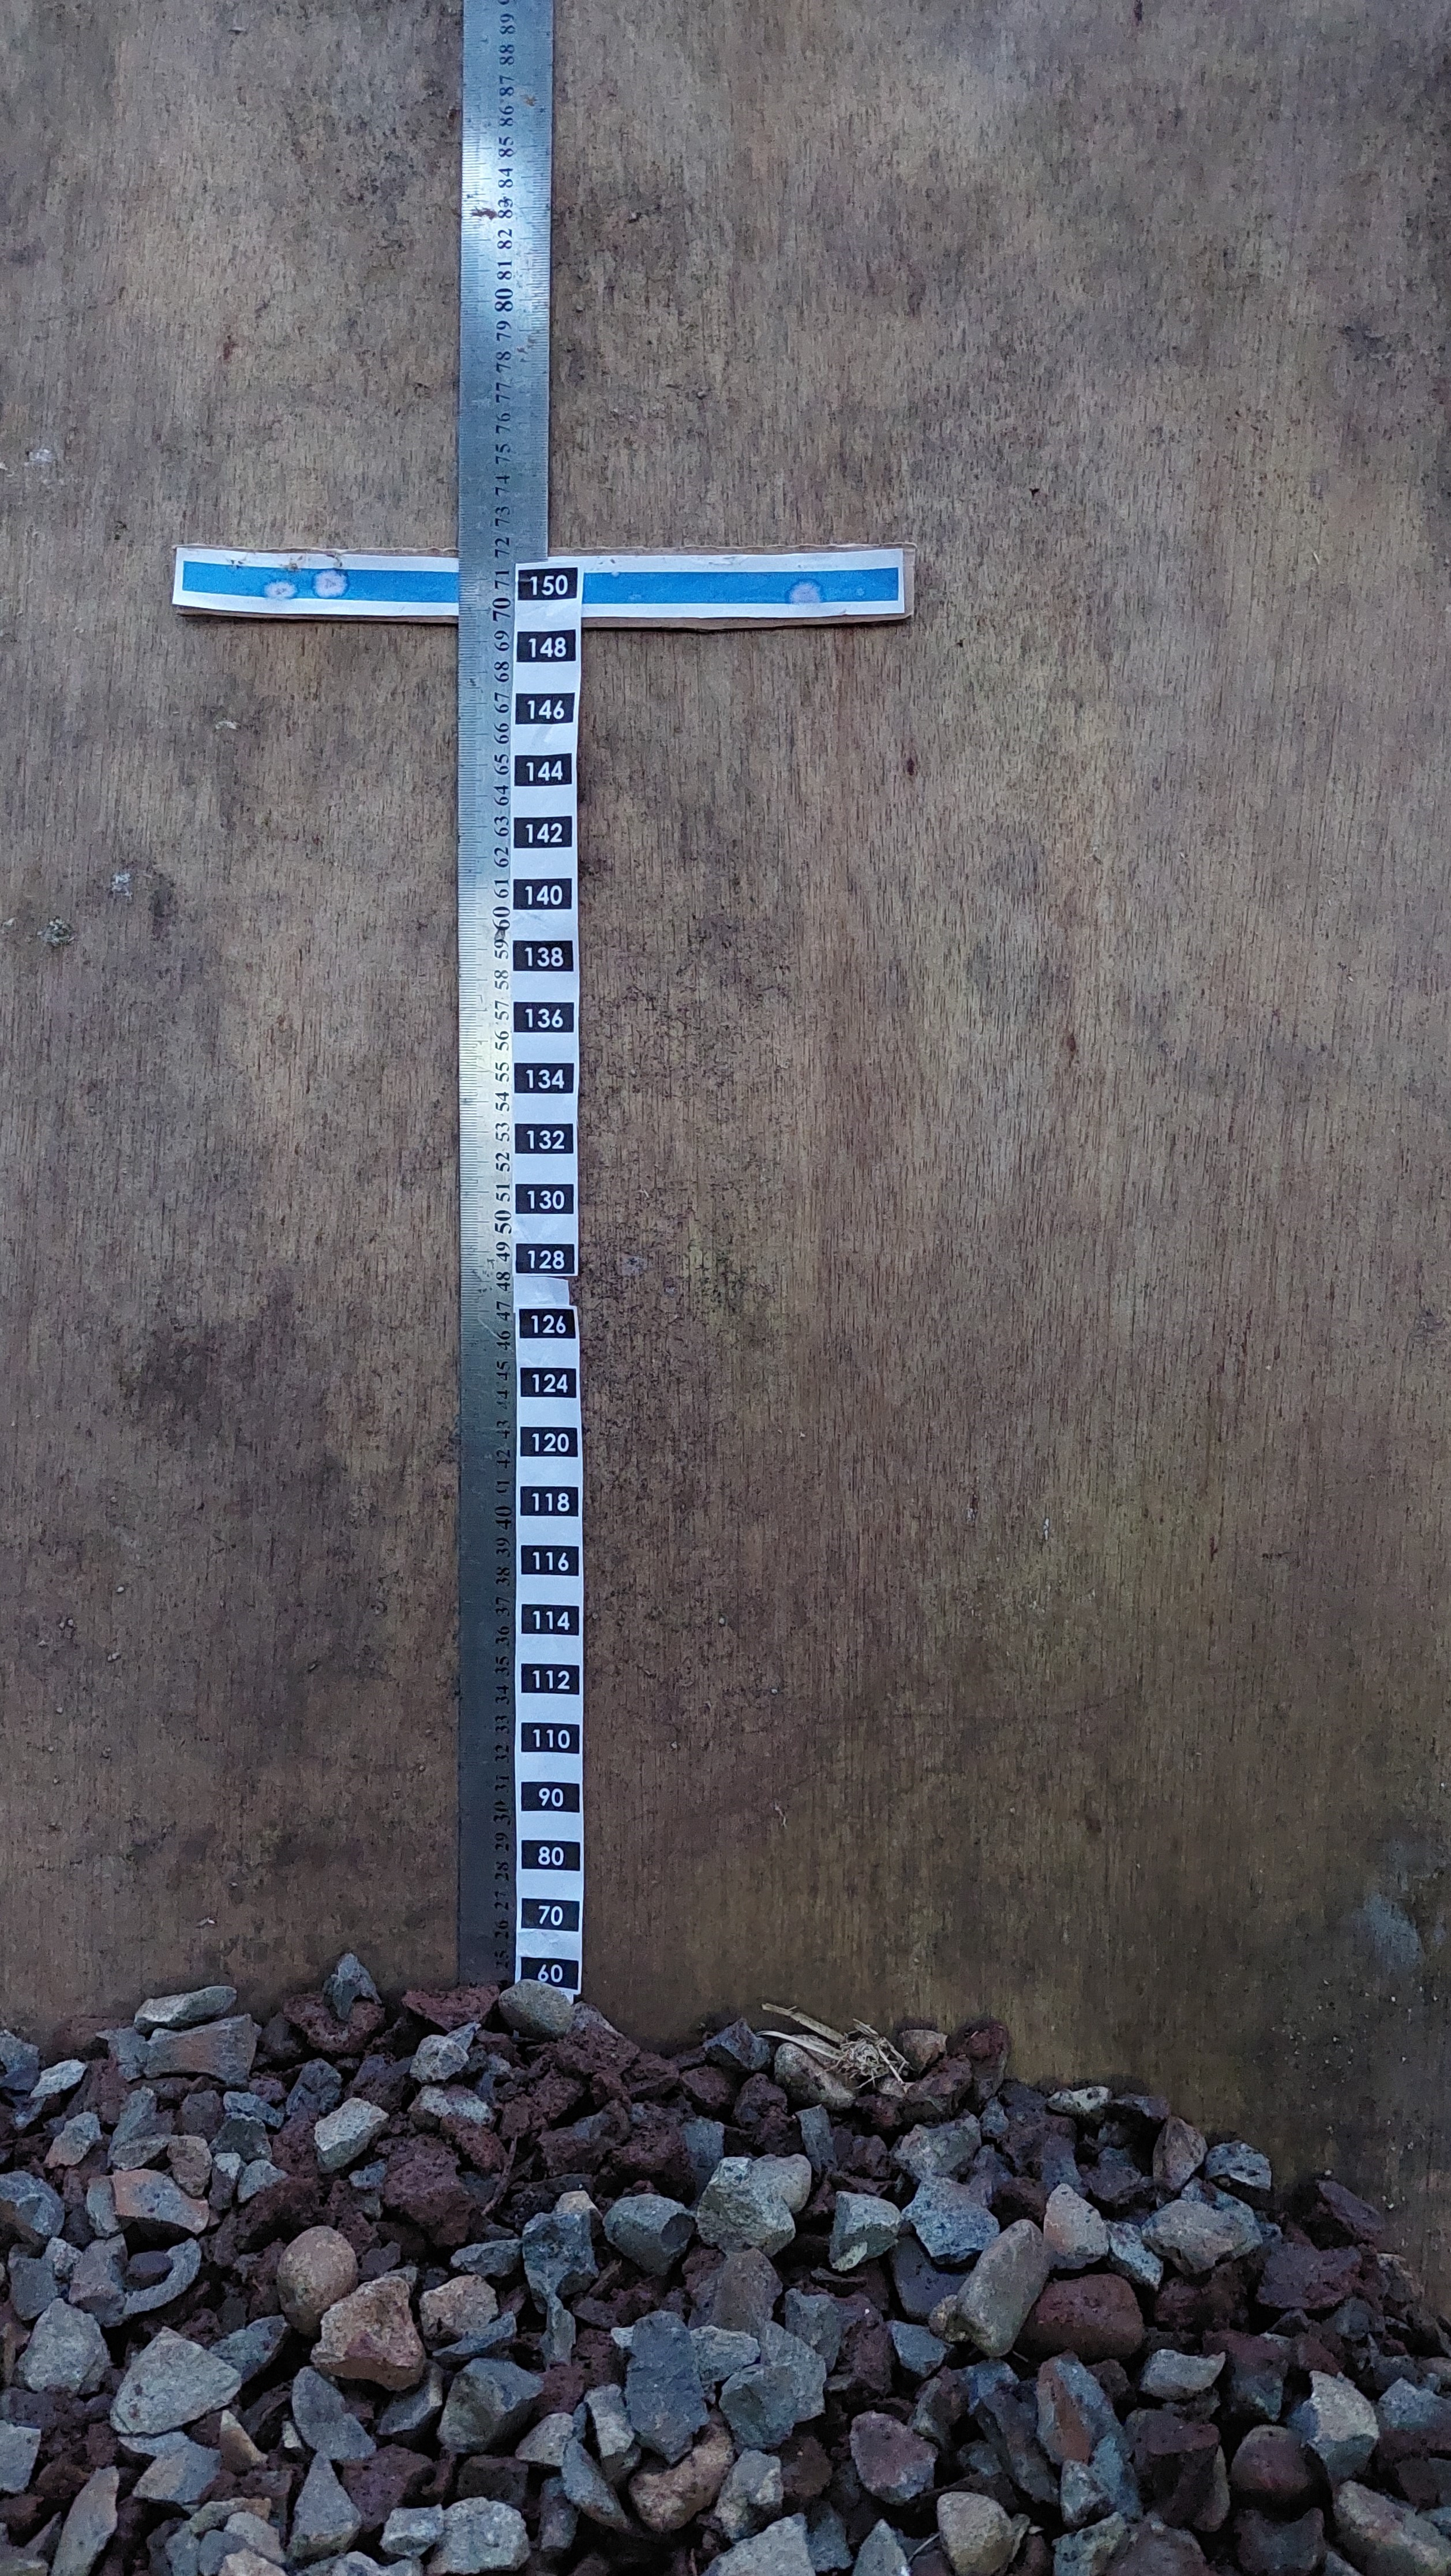kotak_2x1: (511, 1001, 575, 1033), (513, 1060, 573, 1093), (517, 1307, 577, 1341), (520, 1661, 580, 1695), (520, 1721, 580, 1755), (520, 1898, 580, 1932), (518, 1782, 580, 1813), (513, 816, 572, 849), (513, 878, 572, 911), (520, 1840, 580, 1872), (517, 628, 573, 662), (515, 752, 572, 786), (518, 568, 577, 600), (515, 692, 573, 724), (515, 1122, 573, 1154), (515, 1182, 573, 1214), (515, 1242, 573, 1274), (518, 1366, 577, 1398), (520, 1545, 579, 1576), (513, 941, 573, 971), (520, 1426, 580, 1456), (518, 1486, 579, 1516), (518, 1605, 579, 1635)
